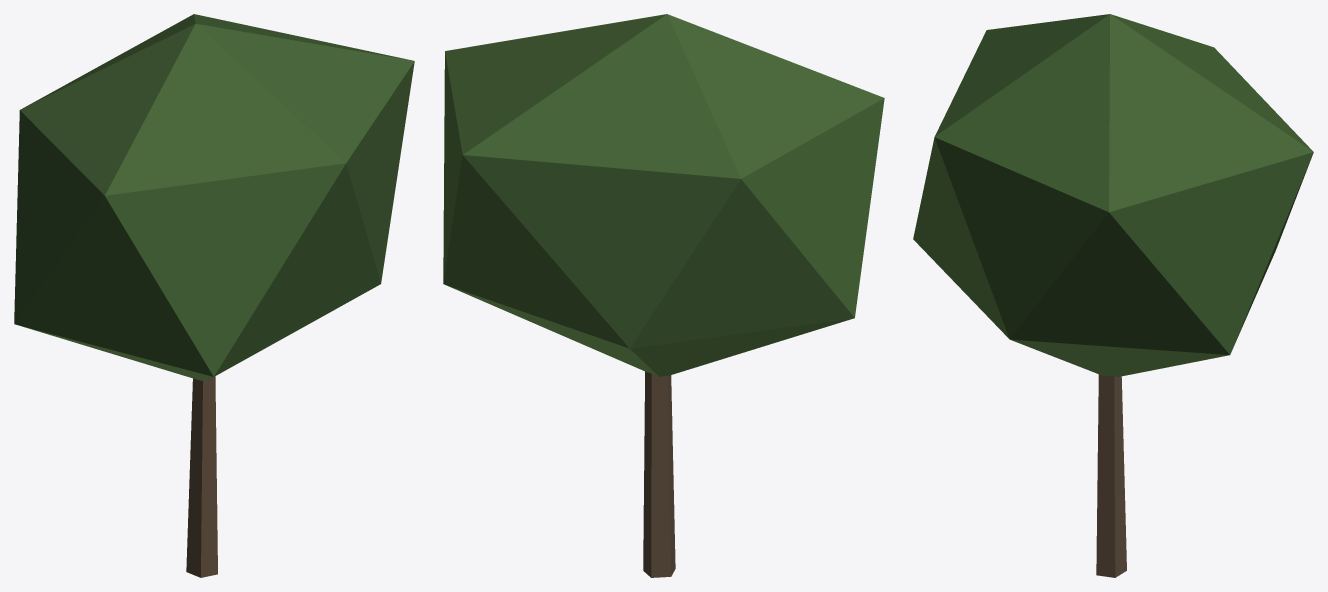
Rendered from broad-irregular-lod2.glb.
3 renders of one model, left to right at view 1: azimuth 30°, elevation 25°; view 2: azimuth 150°, elevation 25°; view 3: azimuth 270°, elevation 25°, orthographic.
Visible parts, largest first — view 1: broad-irregular_LOD2; view 2: broad-irregular_LOD2; view 3: broad-irregular_LOD2.
Boxes of the visible parts, x1,y1,x2,y2 form: broad-irregular_LOD2: [14, 14, 414, 577]; broad-irregular_LOD2: [443, 14, 884, 577]; broad-irregular_LOD2: [913, 14, 1313, 577].
Bounding box in the file's own units: 6.35 × 8.3 × 5.45.
